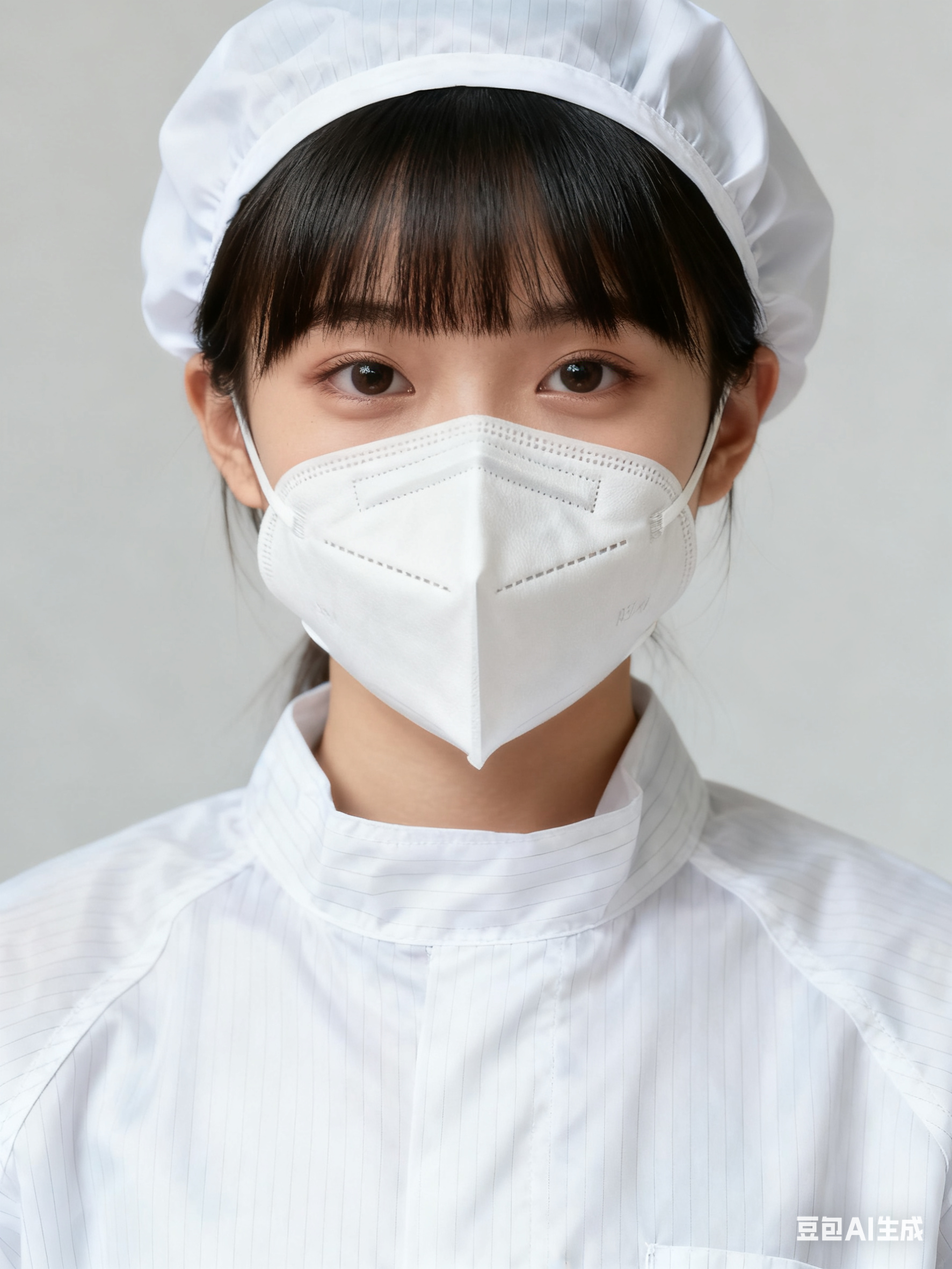MASK: (257, 423, 697, 772)
